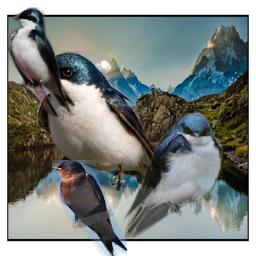Swallow: (37, 51, 171, 193), (121, 111, 224, 239), (7, 7, 75, 117), (52, 160, 127, 256)
